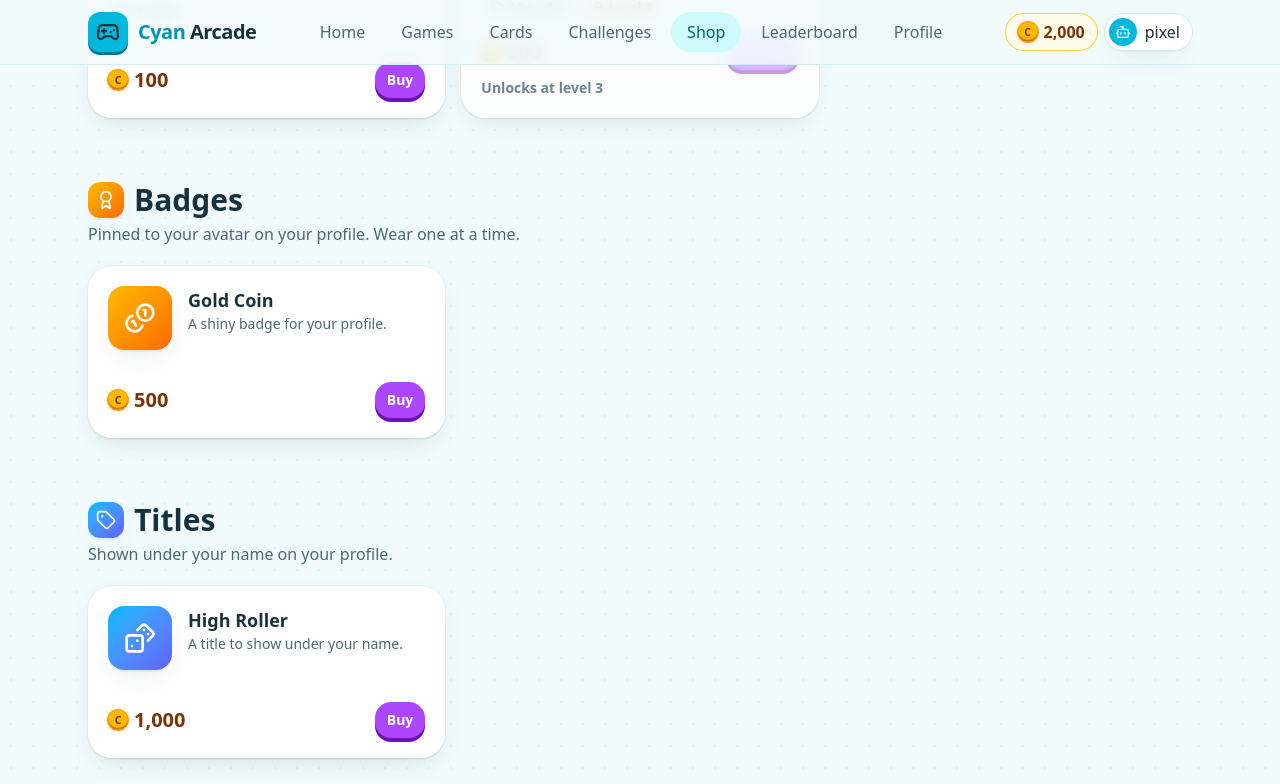
Test: when the shop says no › shows why something could not be worn
The image size is (1280, 784).
(page scrolled)
Click the button "Buy" in the row of "500": (400, 400) [375, 382, 425, 418]
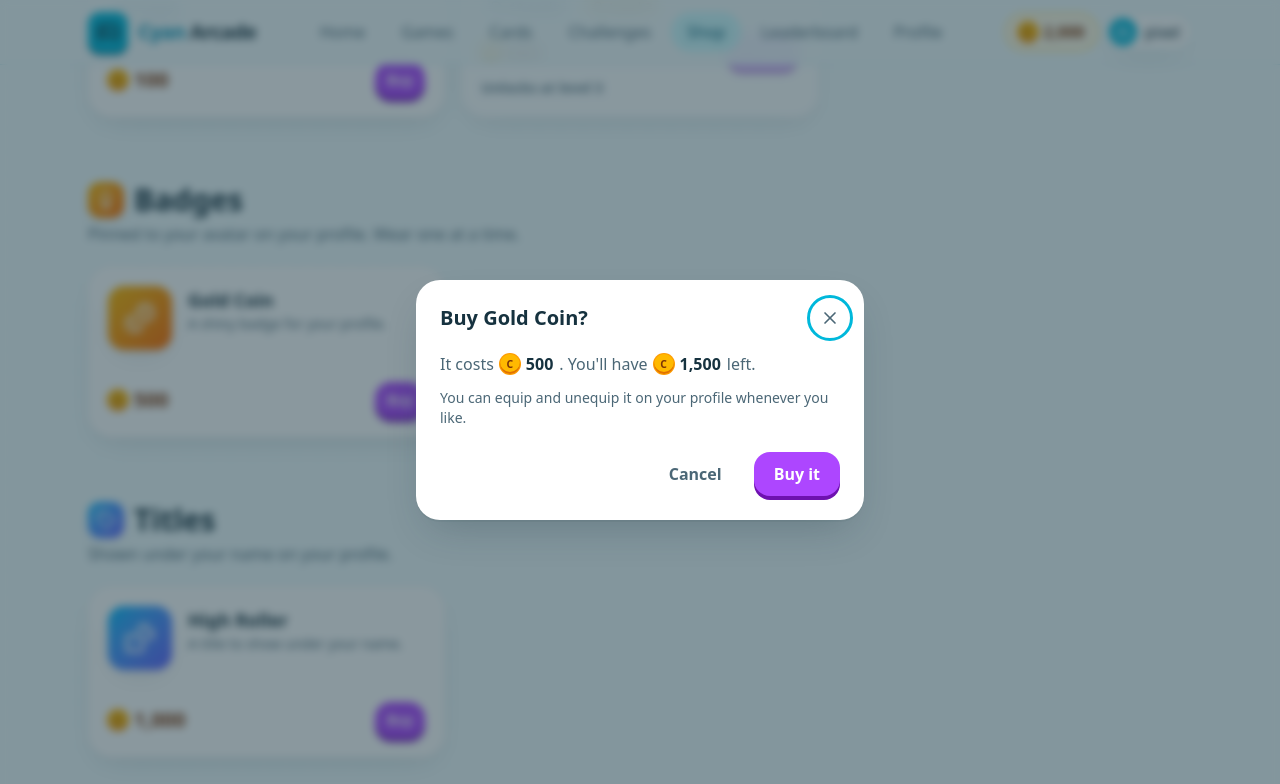
Click the button "Buy it": (797, 474) [754, 452, 840, 496]
(page scrolled)
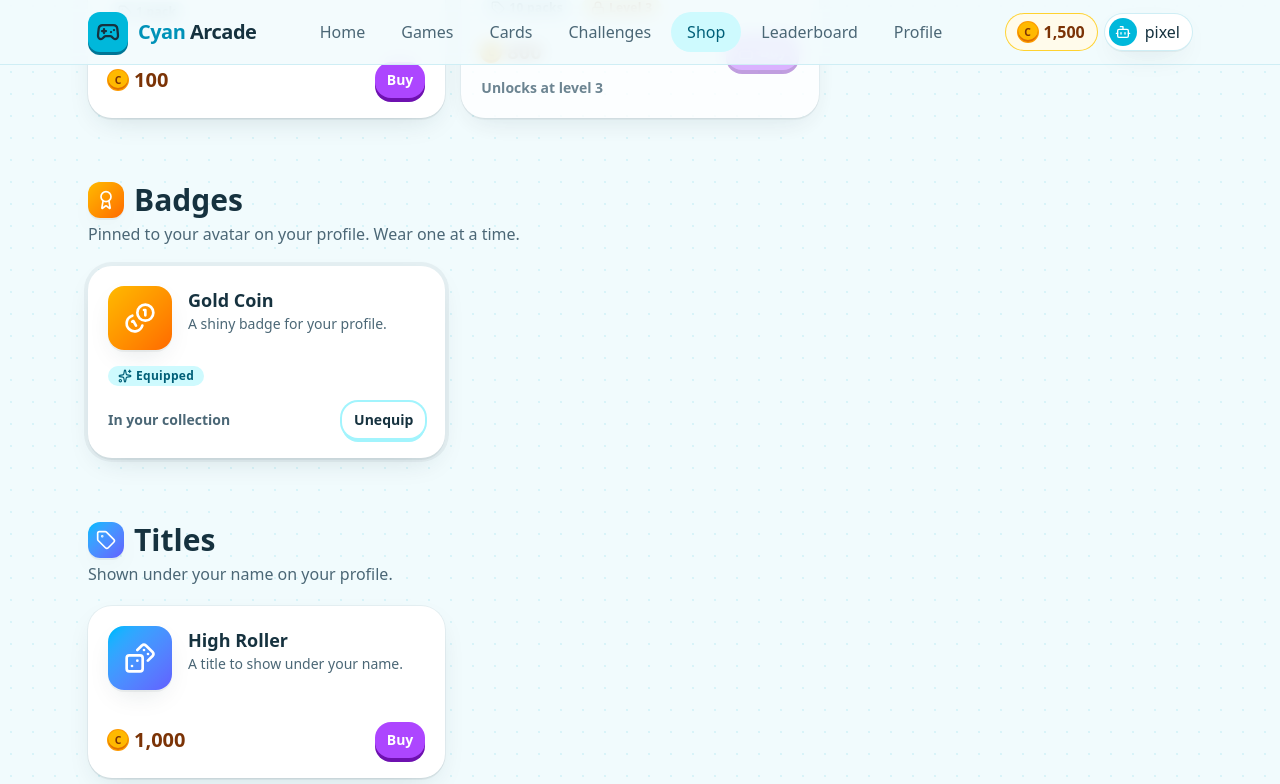
Click the button with aria-label "Unequip Gold Coin": (384, 420) [342, 402, 425, 438]
(page scrolled)
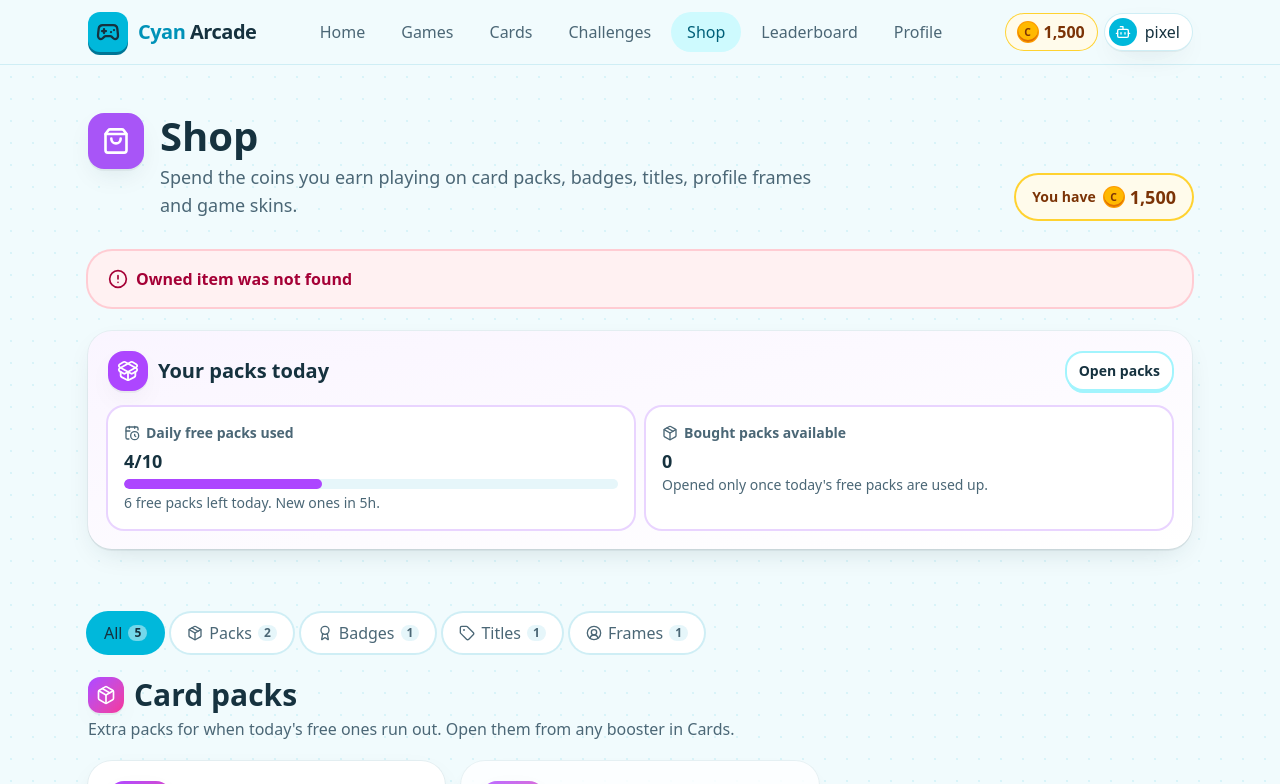
Expected: the message reads "Owned item was not found", [136, 268, 352, 290]
